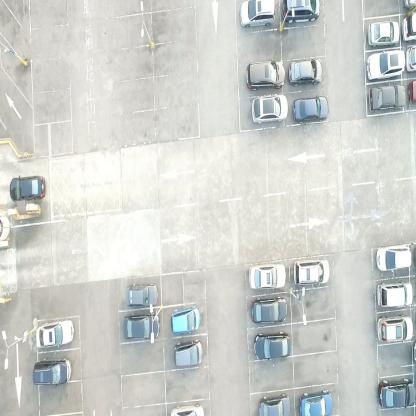car: (365, 48, 405, 81), (245, 59, 285, 91), (35, 318, 74, 350), (31, 357, 72, 387), (251, 92, 288, 125), (378, 378, 416, 408), (251, 296, 288, 326), (293, 258, 330, 288), (291, 94, 329, 123), (254, 332, 291, 361), (239, 0, 276, 29), (248, 262, 286, 290), (369, 84, 406, 112), (10, 173, 46, 201), (288, 58, 324, 86), (170, 304, 201, 336), (366, 19, 400, 48), (377, 280, 413, 307), (174, 338, 204, 369), (123, 315, 160, 340), (298, 389, 333, 415), (376, 245, 412, 270), (124, 282, 158, 308), (281, 0, 322, 21), (258, 392, 290, 415), (400, 11, 416, 42), (169, 402, 205, 415), (406, 44, 415, 73), (408, 79, 416, 104)
